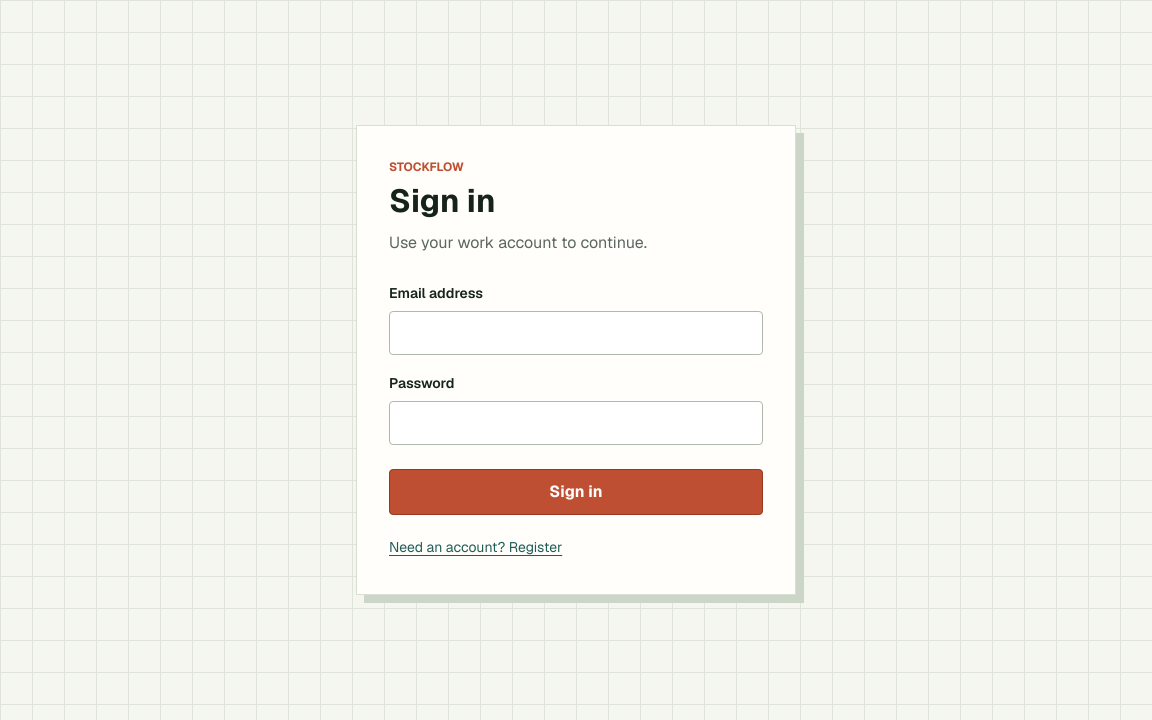
Test: AuthScreen › shows local validation errors and prevents duplicate pending submissions
Click the button "Sign in" at (576, 492), box [389,469,763,515]
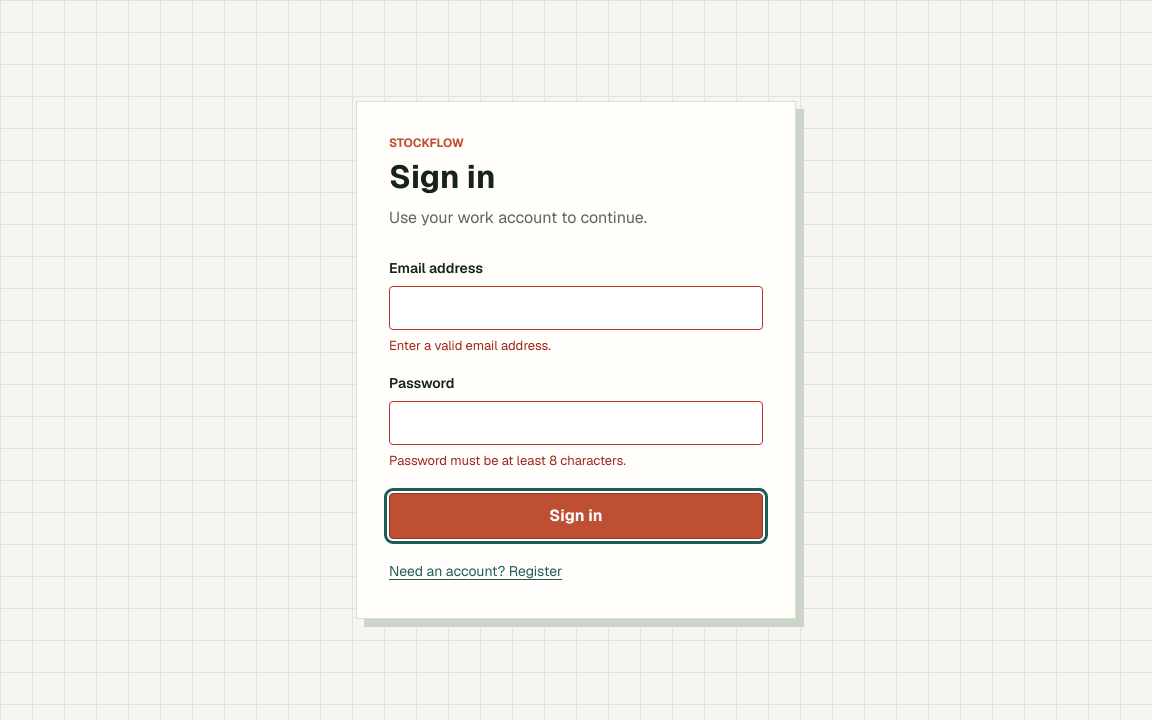
expect the text "Enter a valid email address." is shown: met, box [389,337,551,354]
Type "ada@example.com" into the field labelled "Email address" at (576, 308), box [389,286,763,330]
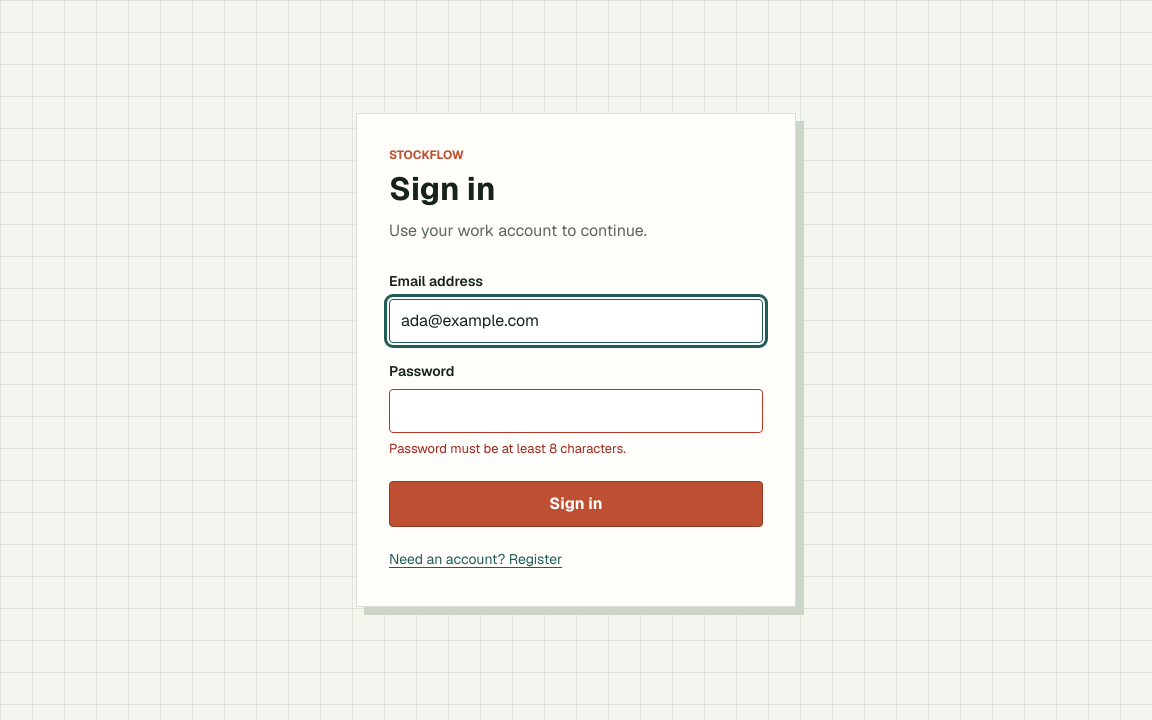
Type "correct-password" into the password field labelled "Password" at (576, 410), box [389,388,763,432]
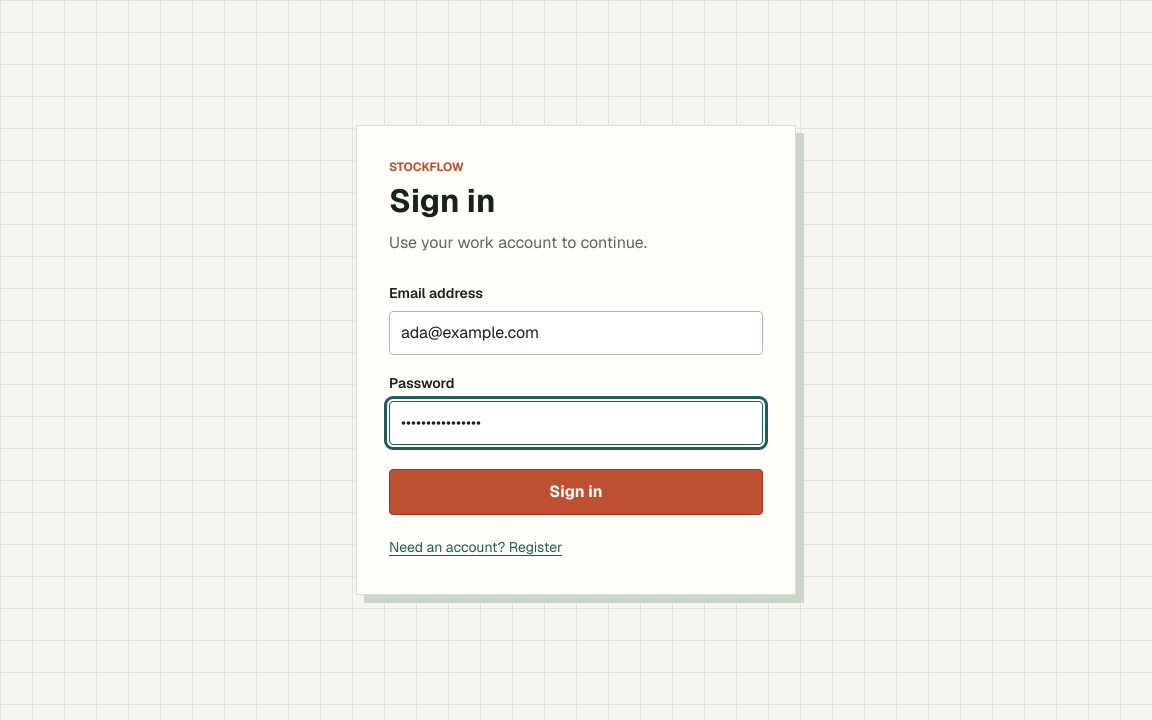
Click the button "Sign in" at (576, 492), box [389,469,763,515]
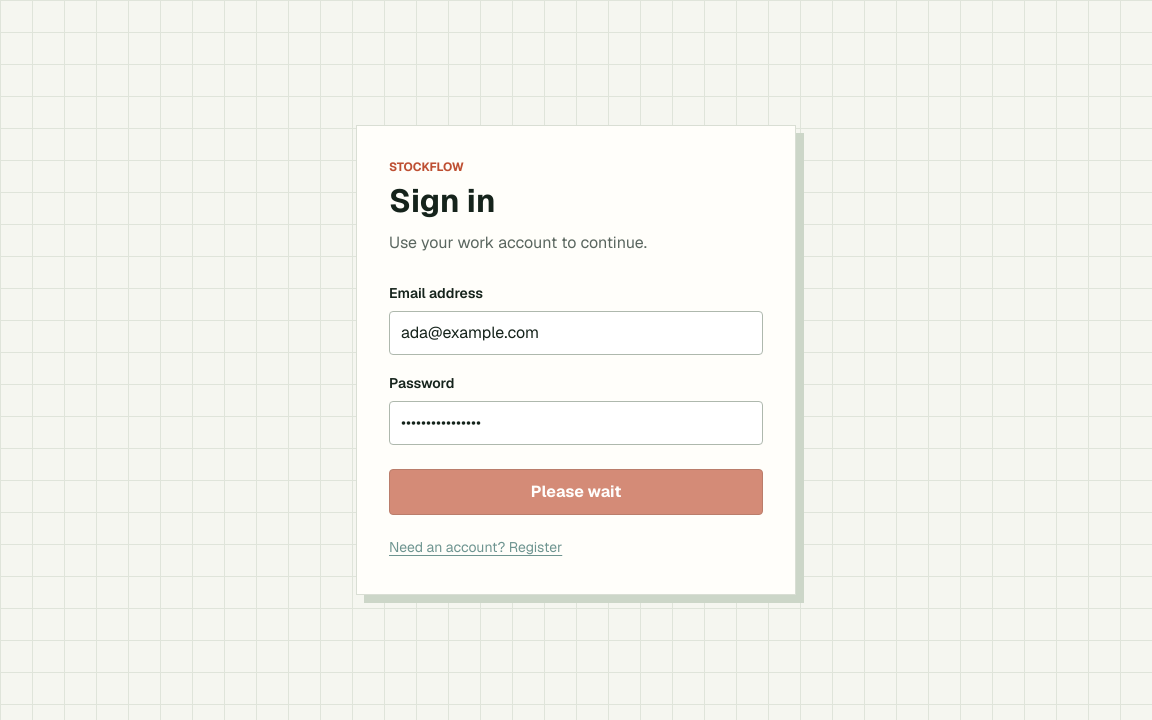
expect the button "Please wait" is disabled: met, box [389,469,763,515]
